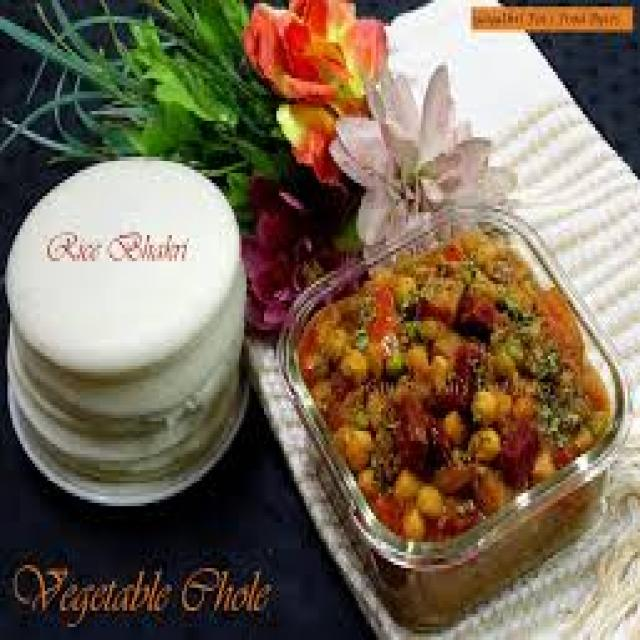UPMA: (299, 225, 608, 539)
